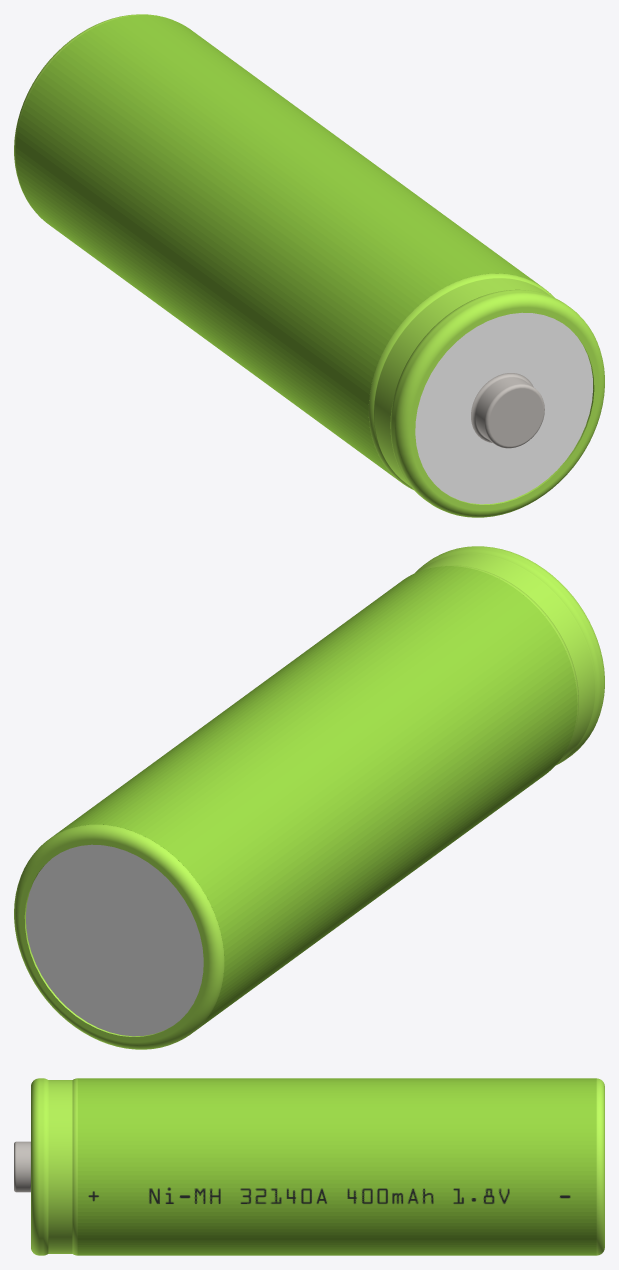
The picture shows the model from 3 angles, top to bottom: view 1: azimuth 30°, elevation 25°; view 2: azimuth 150°, elevation 25°; view 3: azimuth 270°, elevation 25°; orthographic projection. The views are drawn at different scales.
Parts seen in each view (by area): view 1: Cylinder, Cell_Top; view 2: Cylinder, Cell_bottom, Cell_Top; view 3: Cylinder, Cell_Top, Cell_bottom.
Boxes of the visible parts, bbox=[...] form: Cylinder: bbox=[15, 15, 550, 480]; Cell_Top: bbox=[368, 273, 604, 517]; Cylinder: bbox=[41, 566, 577, 1031]; Cell_bottom: bbox=[14, 824, 224, 1049]; Cell_Top: bbox=[415, 546, 604, 765]; Cylinder: bbox=[77, 1078, 596, 1255]; Cell_Top: bbox=[14, 1078, 77, 1255]; Cell_bottom: bbox=[596, 1078, 604, 1255].
Bounding box in the file's own units: 0.021 × 0.021 × 0.07.
10 materials, 1 textured.
